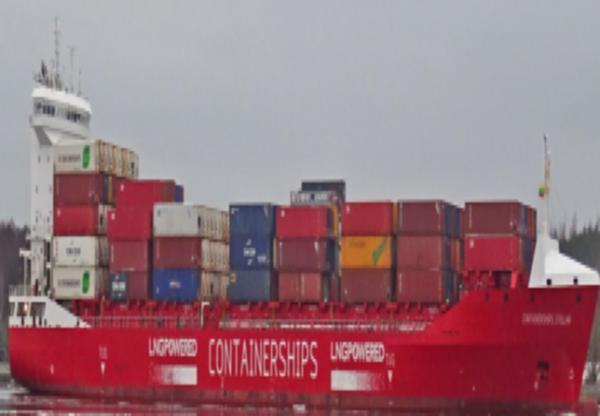Container Ship: (4, 15, 599, 414)
